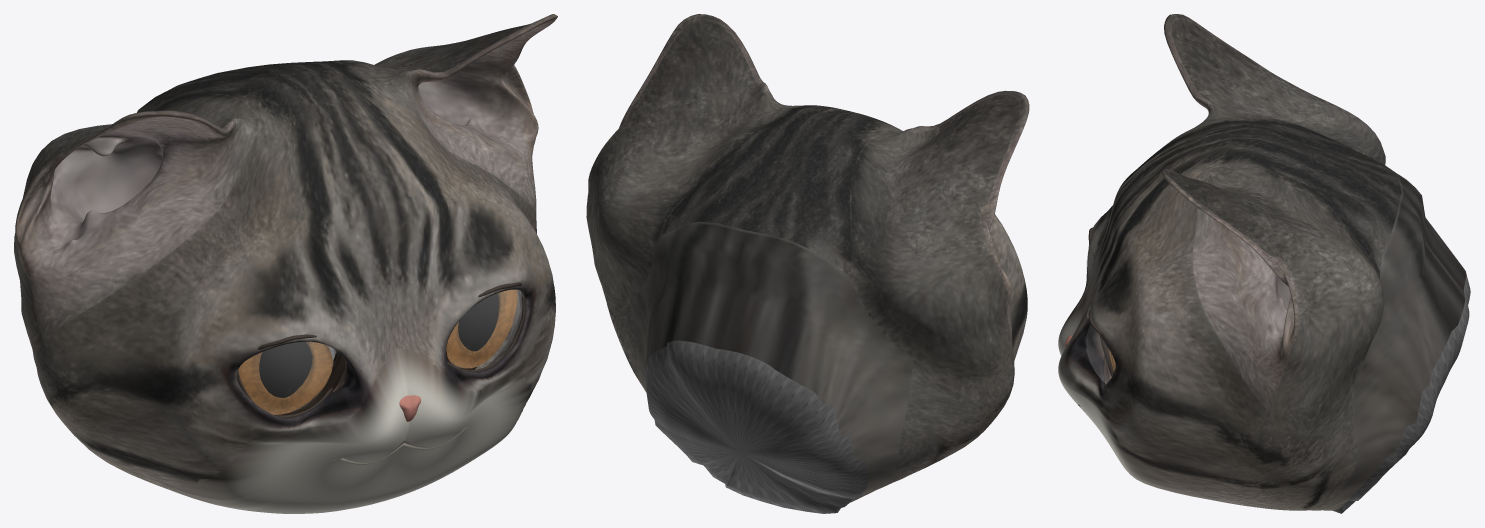
The model's file is kitten-head.glb.
3 renders of one model, left to right at view 1: azimuth 30°, elevation 25°; view 2: azimuth 150°, elevation 25°; view 3: azimuth 270°, elevation 25°, orthographic. The views are drawn at different scales.
Parts seen in each view (by area): view 1: HeadSurface, Pupil_R, ScleraR, Pupil_L, Sclera_L, Eyelid_R; view 2: HeadSurface; view 3: HeadSurface, Pupil_L.
Boxes of the visible parts, x1,y1,x2,y2 form: HeadSurface: [14, 14, 557, 513]; Pupil_R: [238, 342, 333, 414]; ScleraR: [238, 341, 333, 414]; Pupil_L: [446, 290, 521, 367]; Sclera_L: [446, 289, 517, 368]; Eyelid_R: [275, 353, 345, 415]; HeadSurface: [586, 14, 1029, 513]; HeadSurface: [1058, 14, 1470, 513]; Pupil_L: [1086, 325, 1115, 383].
Bounding box in the file's own units: 0.0895 × 0.0799 × 0.0744.
Materials: 9 (2 with a texture image).
